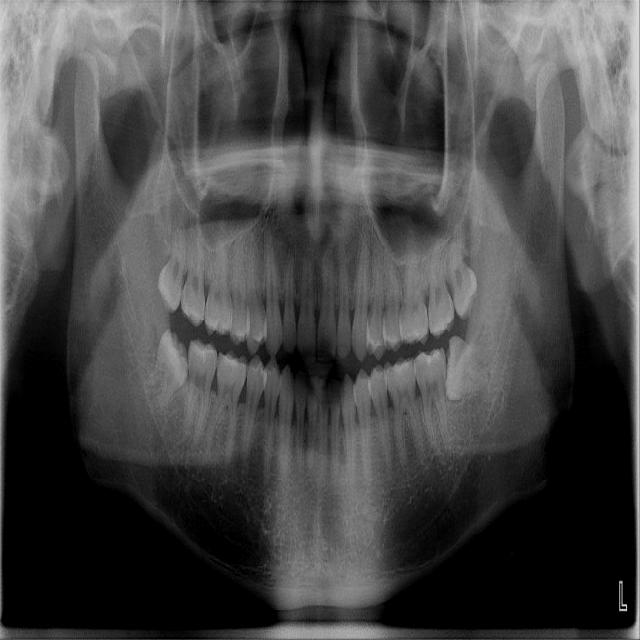impacted tooth: (141, 329, 188, 414), (447, 336, 493, 399)
